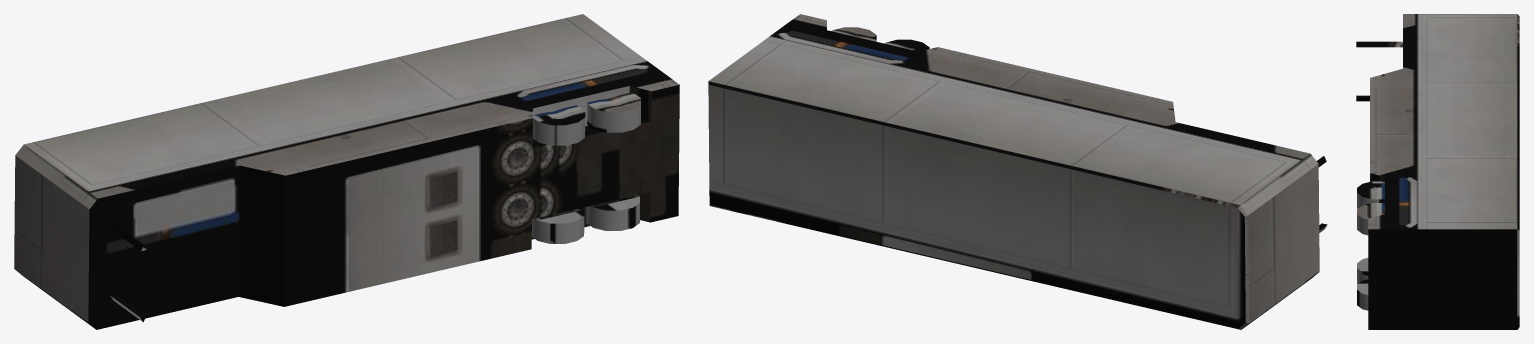
Rendered from lorrytrailer2.glb.
3 views of the same model, side by side, from view 1: azimuth 30°, elevation 25°; view 2: azimuth 150°, elevation 25°; view 3: azimuth 270°, elevation 25° (orthographic). The views are drawn at different scales.
Visible parts, largest first — view 1: LorryTrailer2; view 2: LorryTrailer2; view 3: LorryTrailer2.
Part boxes in pixels (left/top/right/bottom): LorryTrailer2: left=14, top=14, right=679, bottom=329; LorryTrailer2: left=708, top=14, right=1327, bottom=329; LorryTrailer2: left=1356, top=14, right=1519, bottom=329.
Size of the model in its own units: 12.46 by 2.87 by 4.01.
1 material, 1 textured.
